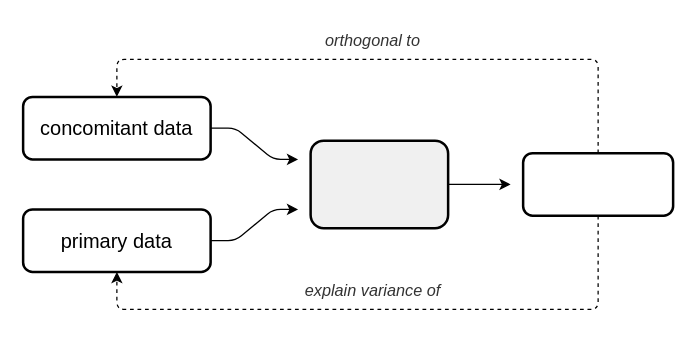
The diagram is 695 pixels wide and 341 high, and some of its shapes have lost their labels. Here are the shapes that lost their labels. From the top down, the centre of each, then its label:
(x=379, y=184): AAPCA
(x=597, y=183): factors
